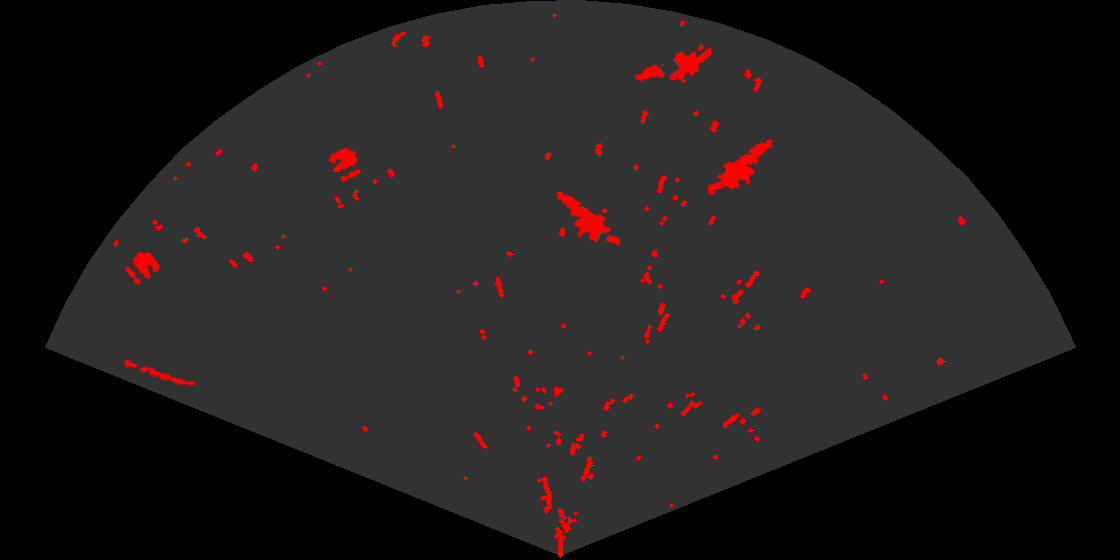ball: (124, 250, 161, 286), (327, 146, 362, 184)
chain: (117, 358, 197, 387)
frogman: (555, 189, 620, 247), (708, 137, 774, 194), (633, 45, 711, 84)
